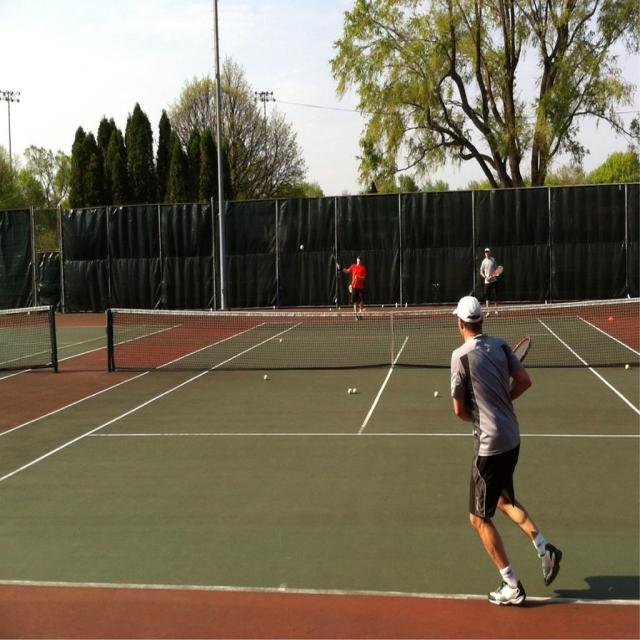ball: (624, 363, 630, 370), (434, 390, 439, 398), (352, 388, 358, 394), (264, 374, 268, 382), (348, 388, 352, 395), (279, 338, 283, 343)
